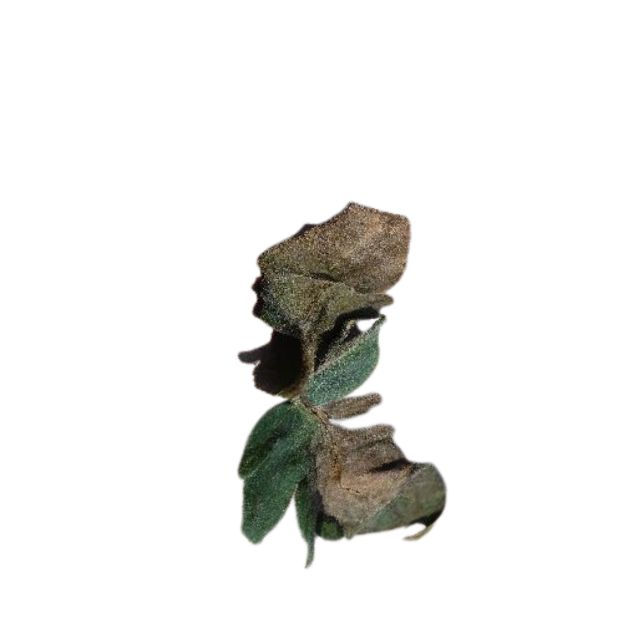Late_blight: (295, 393, 446, 540), (252, 200, 410, 335)
